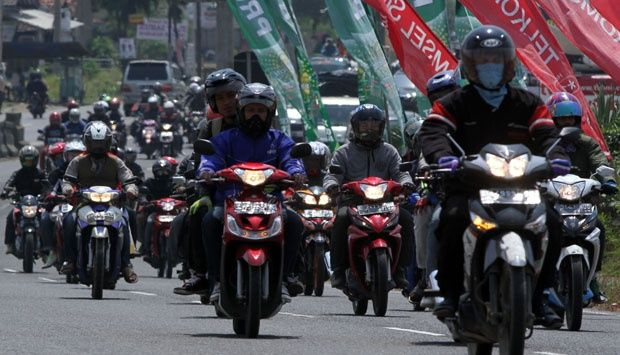plate: (482, 189, 539, 205), (238, 201, 275, 215), (555, 205, 593, 215), (359, 205, 393, 215), (86, 213, 114, 222), (305, 209, 332, 218), (158, 214, 176, 222)
